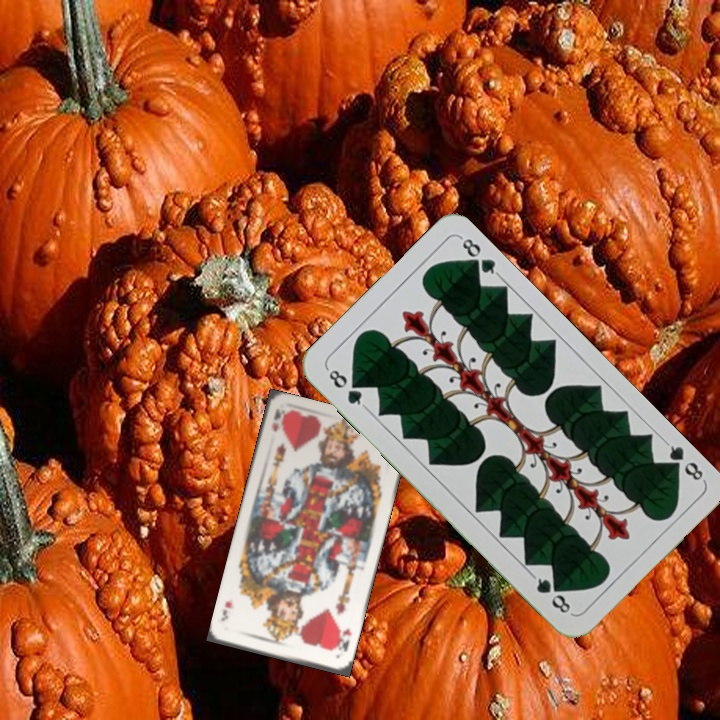G8: (661, 437, 707, 485), (323, 364, 369, 411)
HK: (332, 625, 354, 655), (268, 406, 284, 434)
